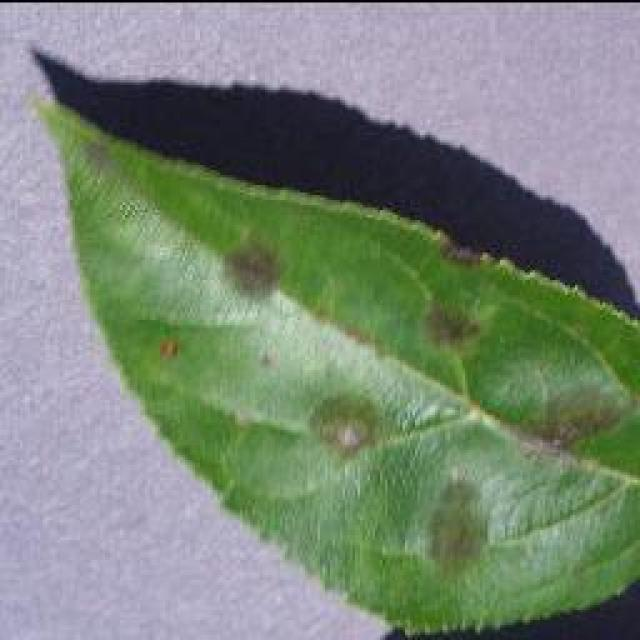apple scab disease: (25, 42, 637, 638)
